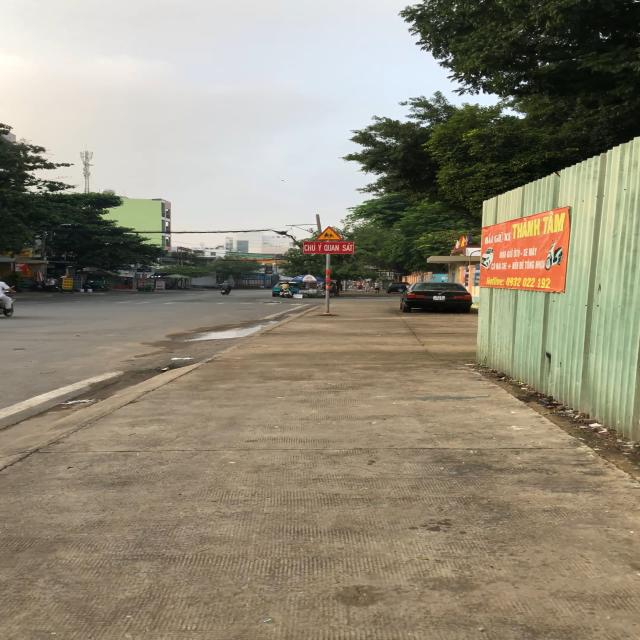Bien bao tre em: (316, 225, 344, 241)
